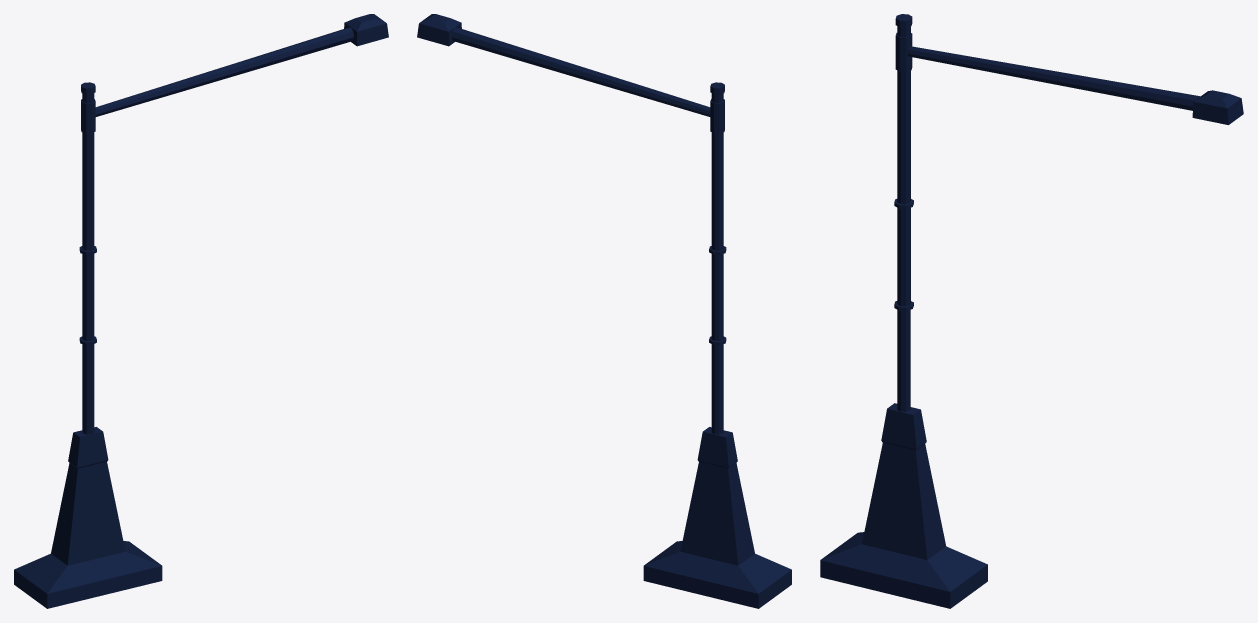
The model's file is poste_luz.fbx.
3 renders of one model, left to right at view 1: azimuth 30°, elevation 25°; view 2: azimuth 150°, elevation 25°; view 3: azimuth 330°, elevation 25°, orthographic. The views are drawn at different scales.
Visible parts, largest first — view 1: poste_luz; view 2: poste_luz; view 3: poste_luz.
Part boxes in pixels (x1,y1,x2,y2): poste_luz: (14,14,388,608); poste_luz: (417,14,791,608); poste_luz: (820,14,1243,608).
Size of the model in its own units: 224 by 302 by 36.66.
